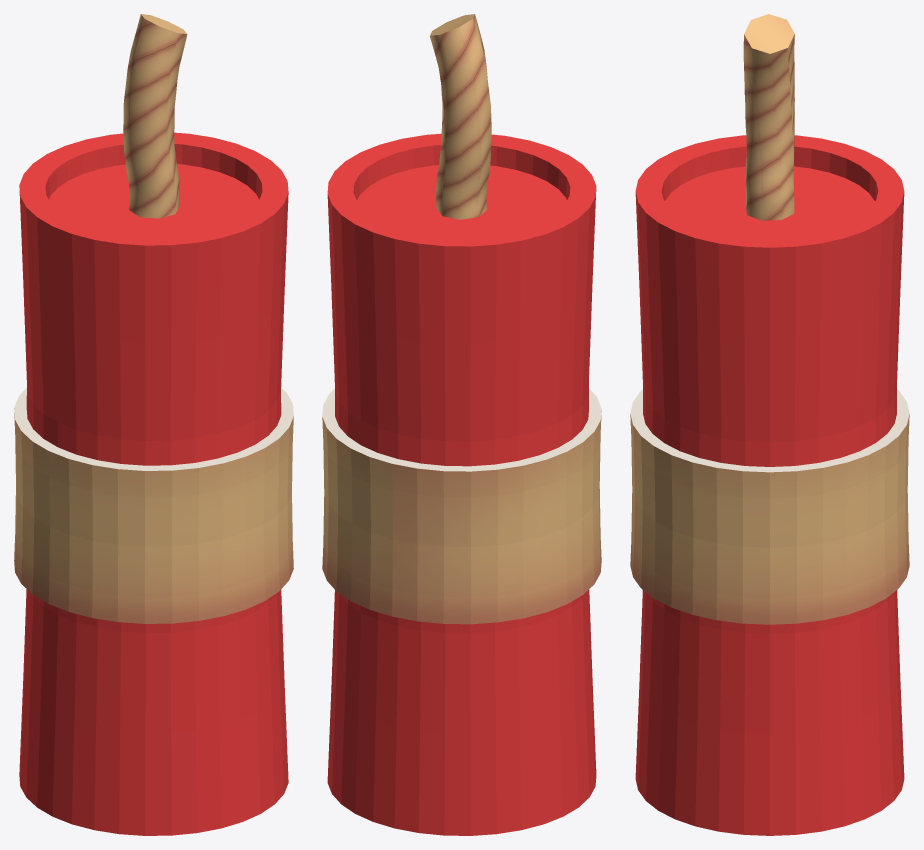
Rendered from tnt.fbx.
3 views of the same model, side by side, from view 1: azimuth 30°, elevation 25°; view 2: azimuth 150°, elevation 25°; view 3: azimuth 270°, elevation 25° (orthographic).
Visible parts, largest first — view 1: tnt, tnt_part, rope; view 2: tnt, tnt_part, rope; view 3: tnt, tnt_part, rope.
Part boxes in pixels (<box>): tnt: <box>19,132,288,835</box>; tnt_part: <box>14,387,293,623</box>; rope: <box>123,14,187,218</box>; tnt: <box>327,133,596,835</box>; tnt_part: <box>322,388,601,624</box>; rope: <box>430,14,491,219</box>; tnt: <box>635,135,904,835</box>; tnt_part: <box>630,389,909,624</box>; rope: <box>743,14,794,220</box>.
Size of the model in its own units: 36.05 by 108 by 36.05.
